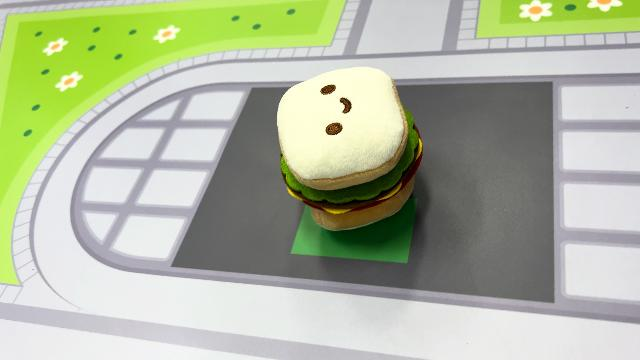sandwich: (273, 63, 425, 232)
